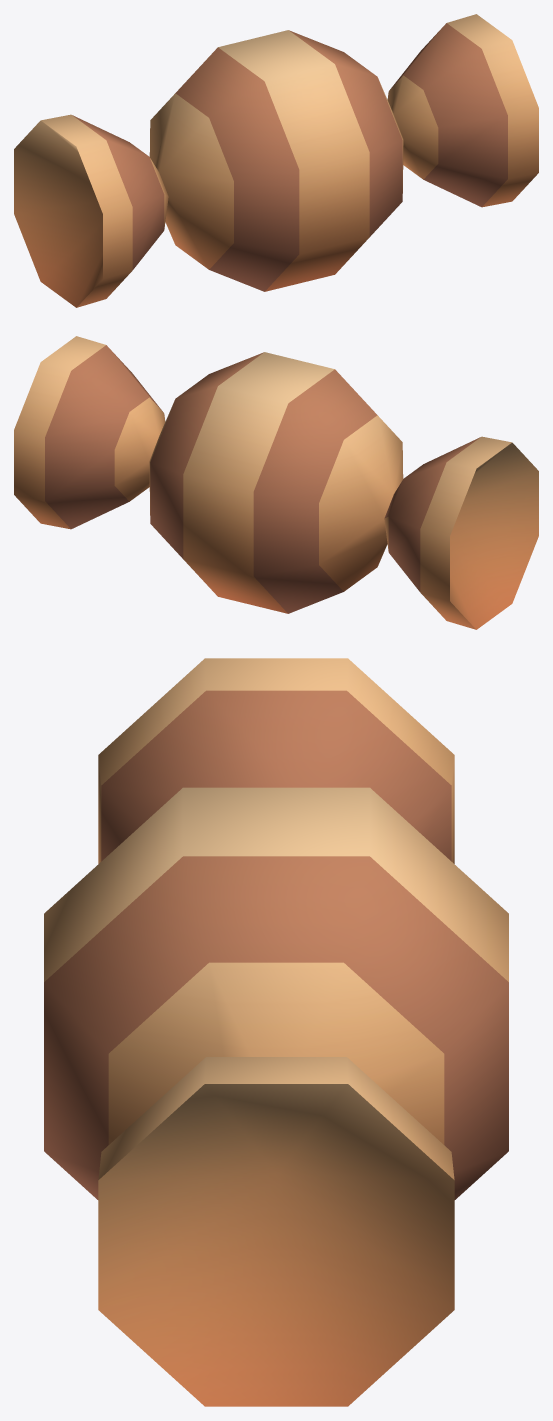
File: candy_brown_B.gltf
The picture shows the model from 3 angles, top to bottom: view 1: azimuth 30°, elevation 25°; view 2: azimuth 150°, elevation 25°; view 3: azimuth 270°, elevation 25°; orthographic projection. The views are drawn at different scales.
Parts seen in each view (by area): view 1: candy_brown_B; view 2: candy_brown_B; view 3: candy_brown_B.
Part boxes in pixels (x1=…): candy_brown_B: x1=14, y1=14, x2=538, y2=307; candy_brown_B: x1=14, y1=336, x2=538, y2=629; candy_brown_B: x1=44, y1=658, x2=508, y2=1406.
Bounding box in the file's own units: 0.65 × 0.3 × 0.3.
1 material, 1 textured.
